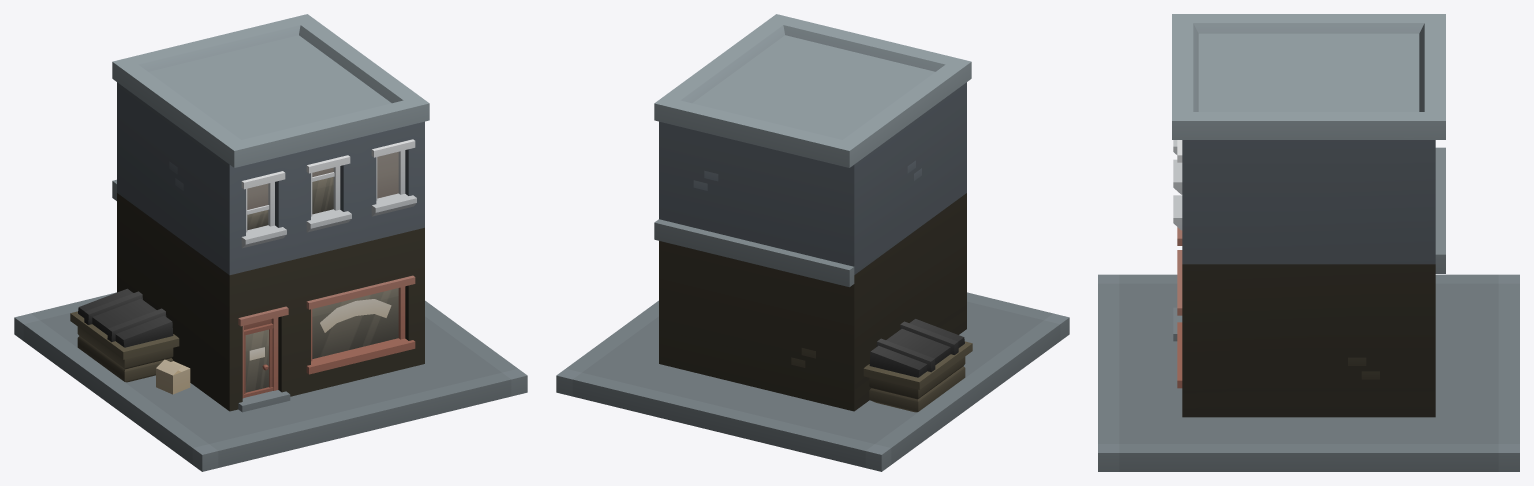
The model's file is cairo-shop.glb.
3 views of the same model, side by side, from view 1: azimuth 30°, elevation 25°; view 2: azimuth 150°, elevation 25°; view 3: azimuth 270°, elevation 25° (orthographic). The views are drawn at different scales.
Parts seen in each view (by area): view 1: building_A; view 2: building_A; view 3: building_A.
Part boxes in pixels (left/top/right/bottom): building_A: left=14, top=14, right=527, bottom=471; building_A: left=556, top=14, right=1069, bottom=471; building_A: left=1098, top=14, right=1519, bottom=471.
Size of the model in its own units: 2 by 1.65 by 2.
Materials: 2 (2 with a texture image).
